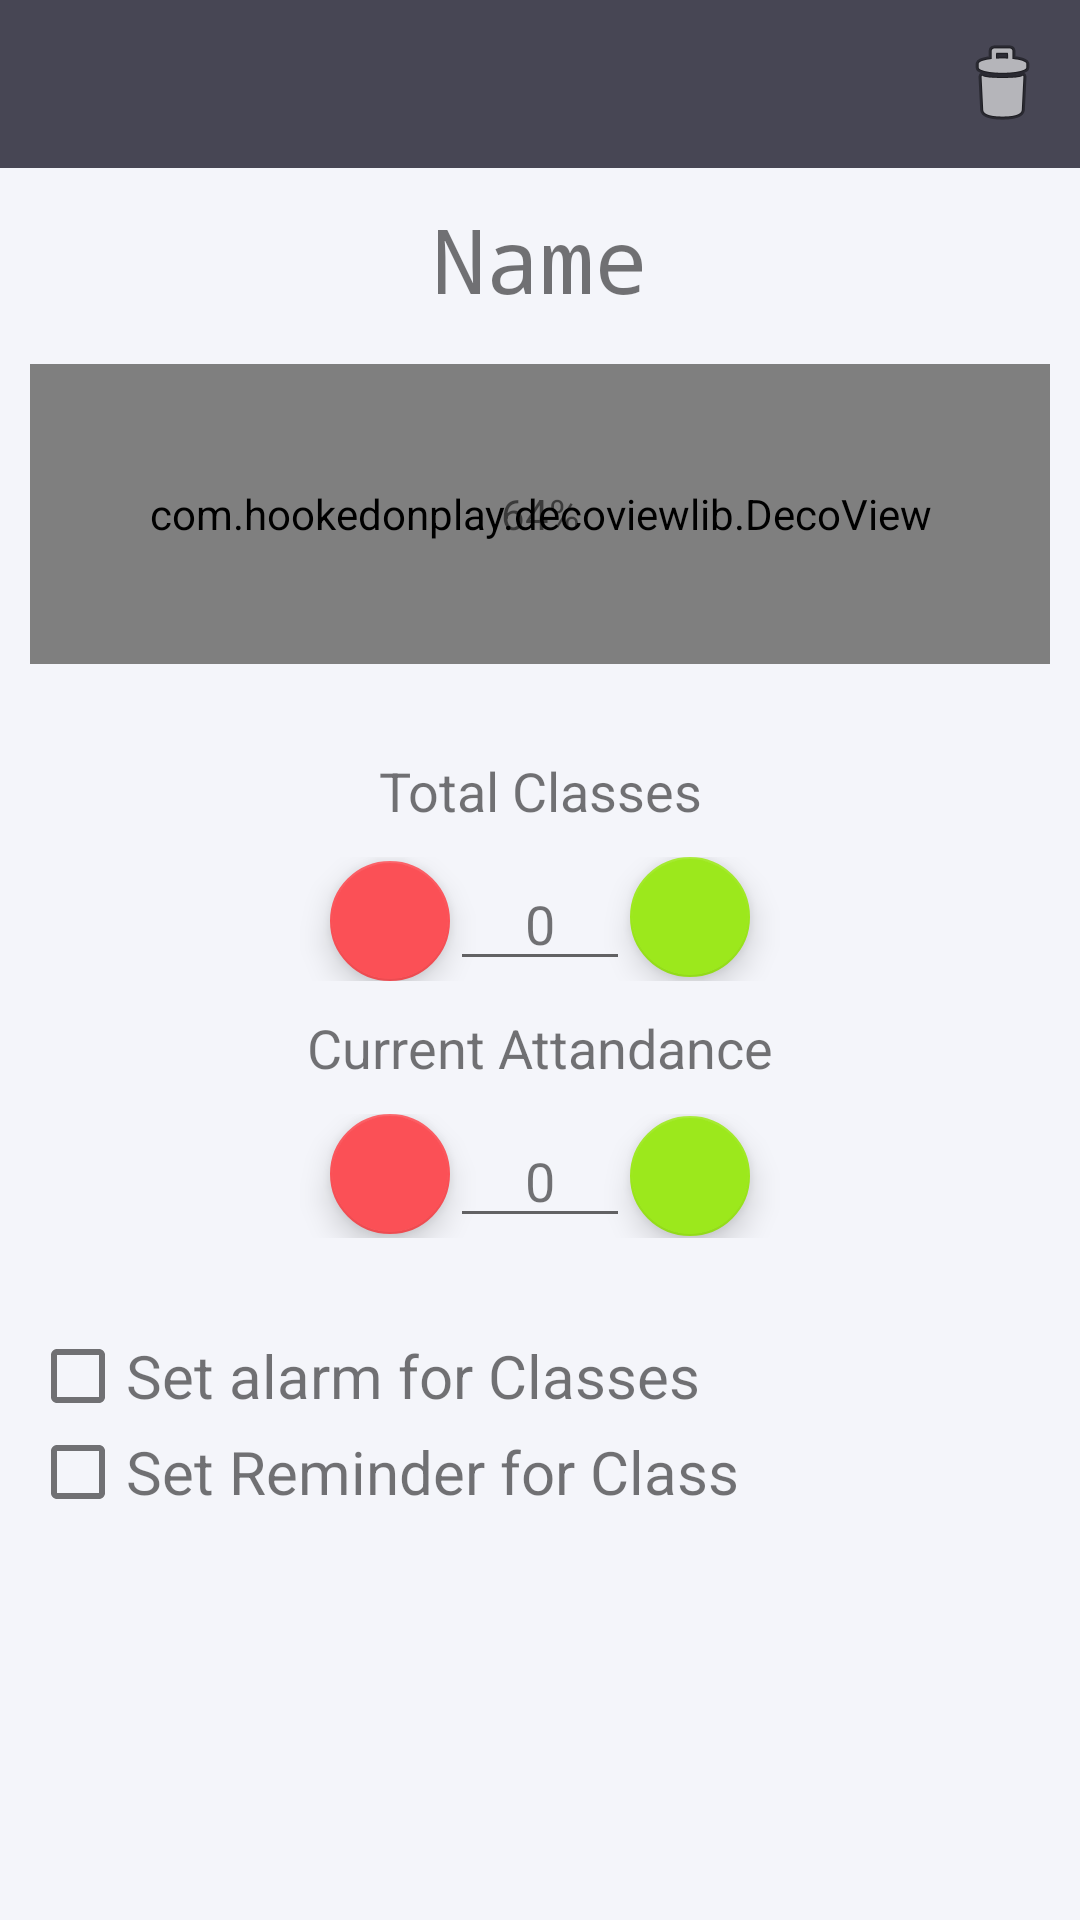

Named icons in this screenshot (1080px×1920px) and their centers, (x,y):
delete: (1002,82)
